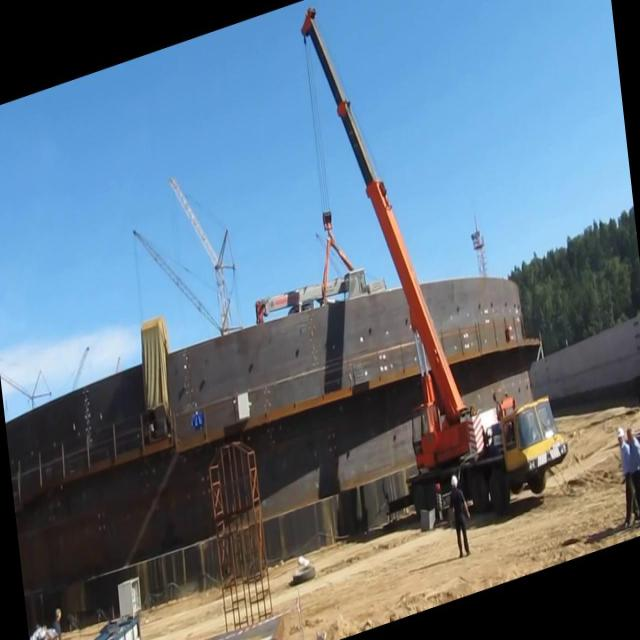crane: (295, 0, 572, 564)
